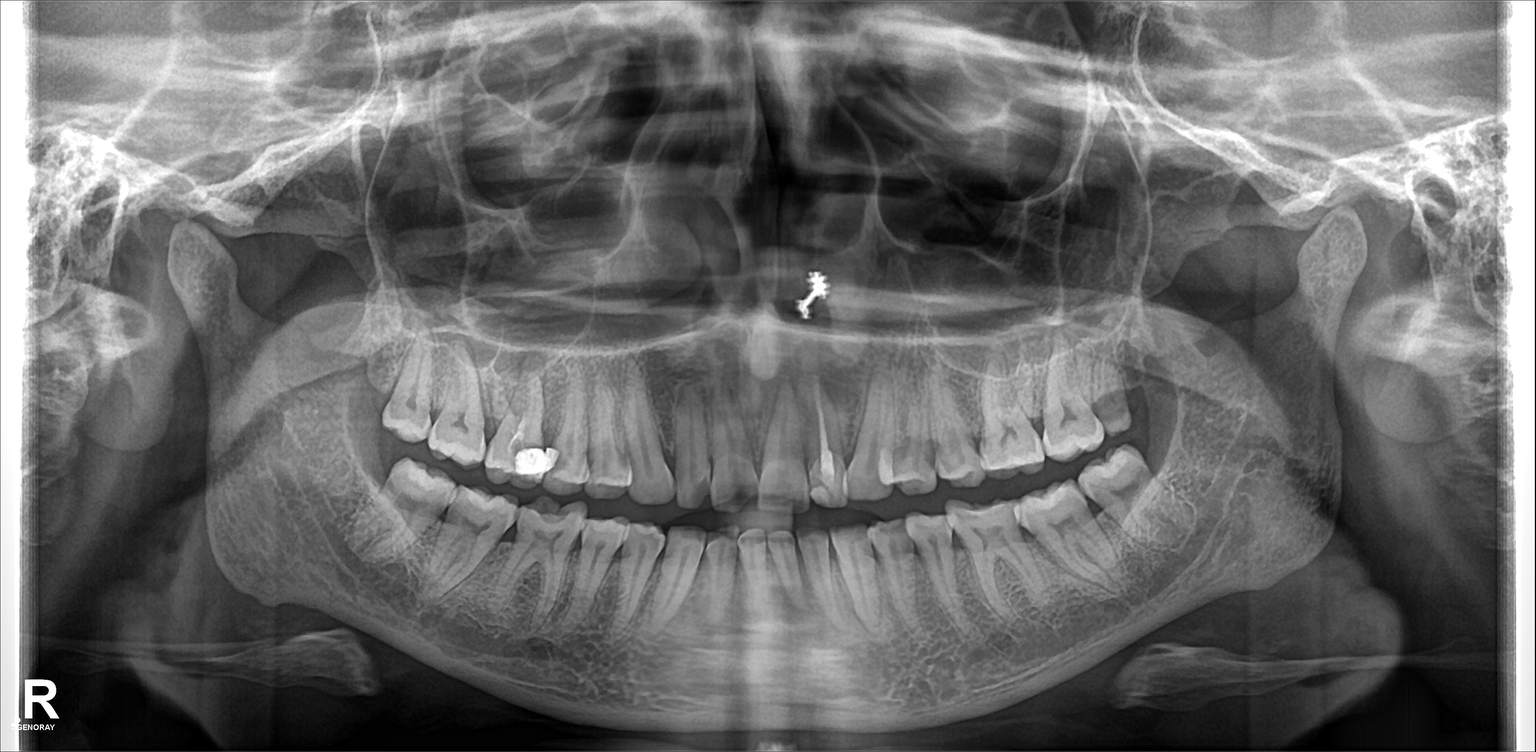Endodontically Treated Tooth: (494, 374, 554, 487), (797, 376, 846, 511)
Missing Tooth: (352, 350, 389, 441), (1138, 329, 1171, 416)
Retained Root: (1092, 348, 1129, 432)
